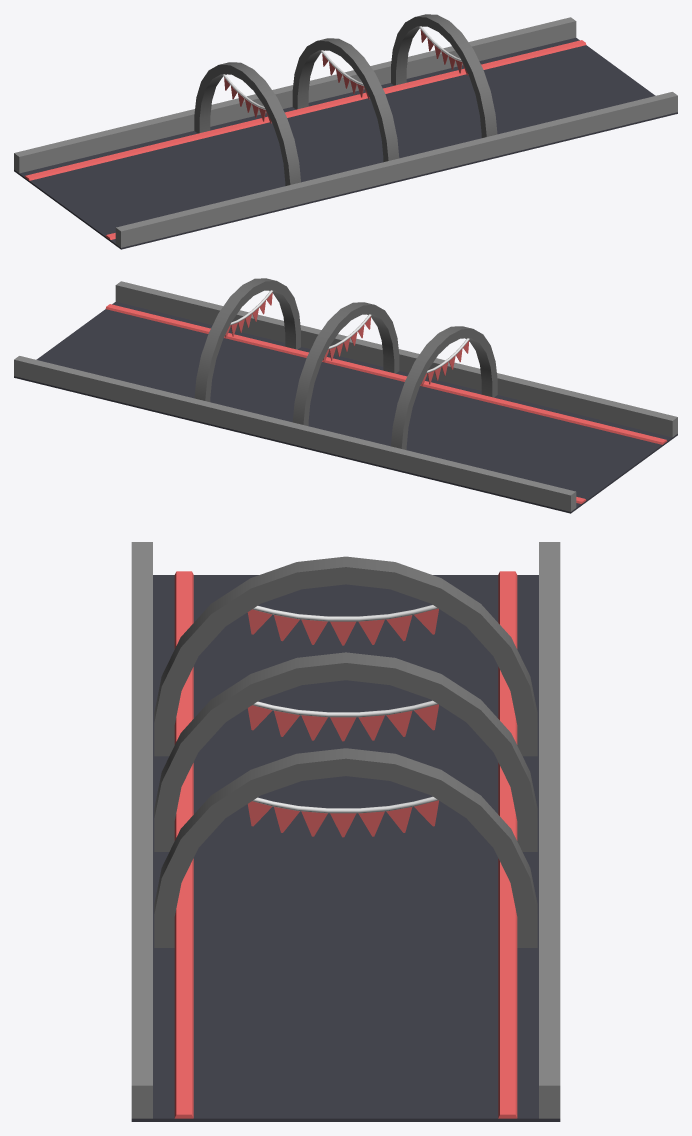
File: kartkids_base_trk_510_srt_startfinish_arch_3x1.glb
3 views of the same model, one above another, from view 1: azimuth 30°, elevation 25°; view 2: azimuth 150°, elevation 25°; view 3: azimuth 270°, elevation 25° (orthographic). The views are drawn at different scales.
Visible parts, largest first — view 1: kartkids_base_trk_010_rd_straight_1x1.028, kartkids_base_trk_020_trn_90_l_1x1.011, kartkids_base_trk_510_srt_startfinish_arch_3x1.001; view 2: kartkids_base_trk_010_rd_straight_1x1.028, kartkids_base_trk_020_trn_90_l_1x1.011, kartkids_base_trk_510_srt_startfinish_arch_3x1.001; view 3: kartkids_base_trk_010_rd_straight_1x1.028, kartkids_base_trk_510_srt_startfinish_arch_3x1.001, kartkids_base_trk_020_trn_90_l_1x1.011.
Part boxes in pixels (x1=…): kartkids_base_trk_010_rd_straight_1x1.028: x1=14, y1=37, x2=677, y2=249; kartkids_base_trk_020_trn_90_l_1x1.011: x1=14, y1=17, x2=677, y2=247; kartkids_base_trk_510_srt_startfinish_arch_3x1.001: x1=194, y1=14, x2=497, y2=185; kartkids_base_trk_010_rd_straight_1x1.028: x1=14, y1=301, x2=677, y2=513; kartkids_base_trk_020_trn_90_l_1x1.011: x1=14, y1=281, x2=677, y2=511; kartkids_base_trk_510_srt_startfinish_arch_3x1.001: x1=194, y1=278, x2=497, y2=449; kartkids_base_trk_010_rd_straight_1x1.028: x1=131, y1=571, x2=560, y2=1121; kartkids_base_trk_510_srt_startfinish_arch_3x1.001: x1=154, y1=556, x2=537, y2=947; kartkids_base_trk_020_trn_90_l_1x1.011: x1=131, y1=542, x2=560, y2=1118.
Bounding box in the file's own units: 30 × 4.96 × 10.
